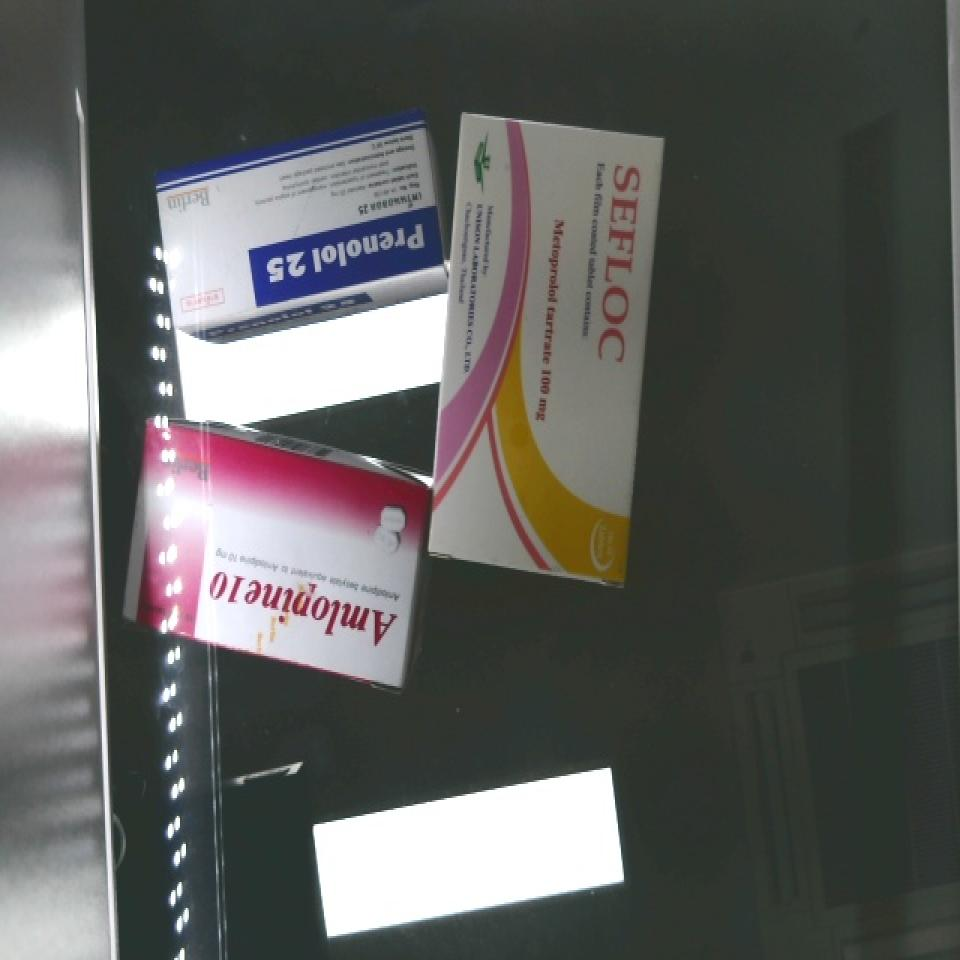medicine_box: (425, 111, 664, 588), (105, 423, 449, 697), (135, 109, 460, 330)
medicine_label_obb: (187, 555, 420, 673), (578, 138, 659, 388), (247, 201, 443, 301)
